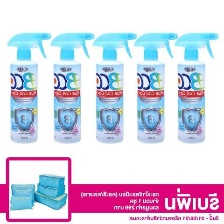cleaning_solution: (91, 29, 140, 146), (131, 28, 180, 145), (5, 29, 52, 146), (173, 28, 220, 145), (50, 30, 96, 145)
